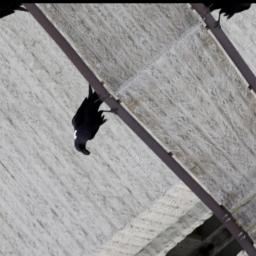Crow: (46, 75, 135, 162)
